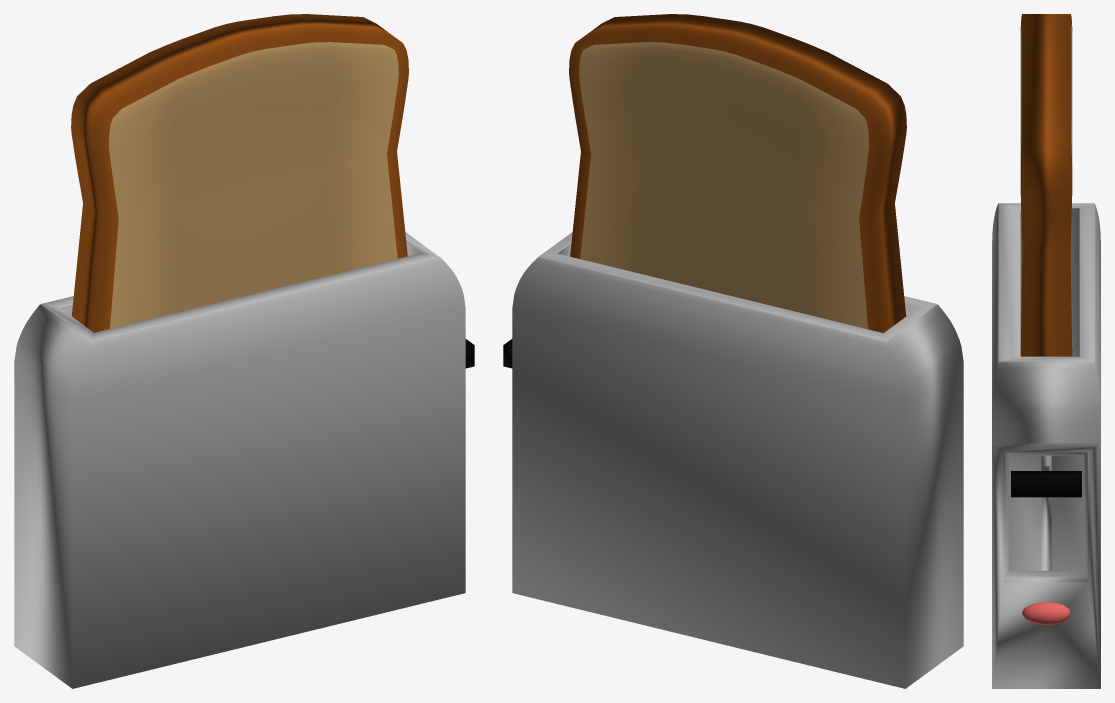
Rendered from Toasterwithtoast.fbx.
3 views of the same model, side by side, from view 1: azimuth 30°, elevation 25°; view 2: azimuth 150°, elevation 25°; view 3: azimuth 270°, elevation 25° (orthographic). The views are drawn at different scales.
Parts seen in each view (by area): view 1: Cube, Cube.002; view 2: Cube, Cube.002; view 3: Cube, Cube.002, Cube.001, Sphere.
Boxes of the visible parts, x1=… form: Cube: x1=14, y1=232, x2=465, y2=688; Cube.002: x1=71, y1=14, x2=408, y2=332; Cube: x1=512, y1=232, x2=963, y2=688; Cube.002: x1=569, y1=14, x2=906, y2=332; Cube: x1=992, y1=203, x2=1100, y2=688; Cube.002: x1=1020, y1=14, x2=1072, y2=356; Cube.001: x1=1011, y1=466, x2=1081, y2=497; Sphere: x1=1022, y1=602, x2=1070, y2=624.
Bounding box in the file's own units: 544 × 739 × 133.
